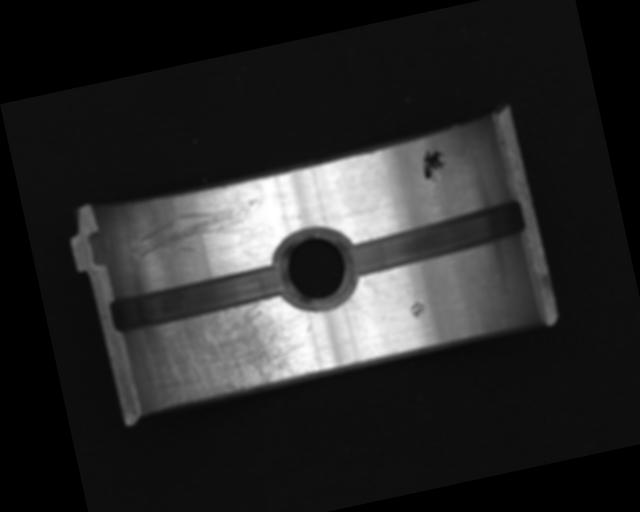blot: (418, 144, 451, 184)
bruise: (407, 298, 430, 321)
gap: (341, 201, 530, 278), (106, 260, 290, 336)
hole: (266, 219, 364, 315)
nick: (132, 194, 268, 264), (347, 292, 379, 328)
scratch: (129, 289, 324, 414)
